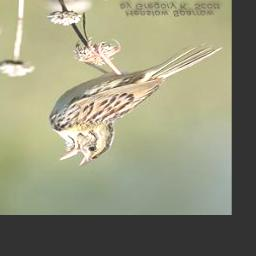Sparrow: (47, 34, 228, 170)
